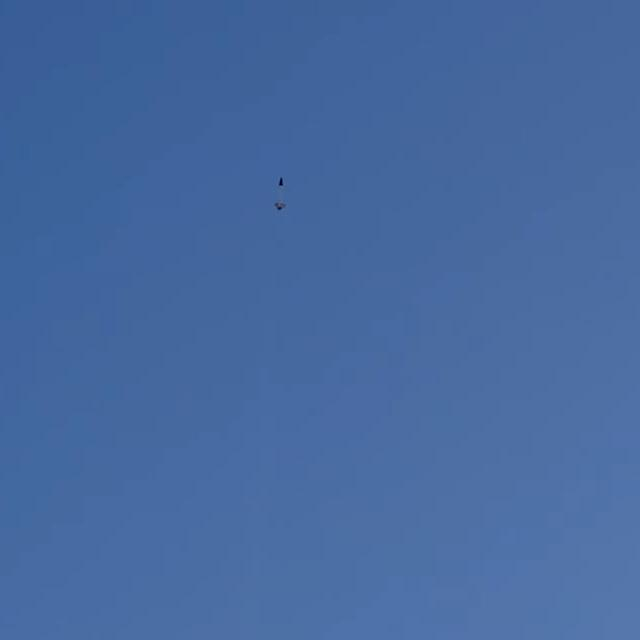rocket: (273, 179, 285, 212)
